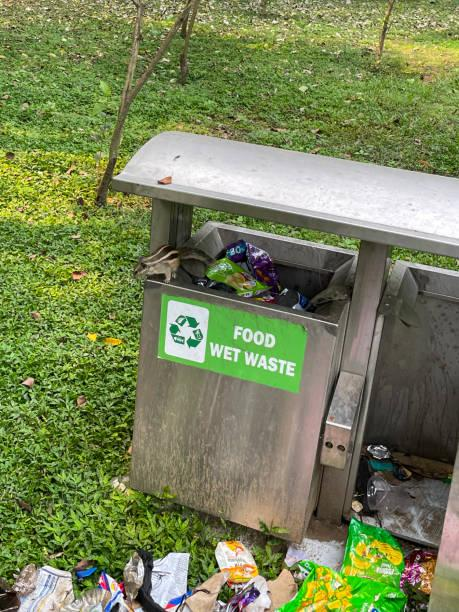trash: (140, 213, 358, 330), (1, 513, 187, 612), (286, 548, 459, 612), (339, 511, 412, 587), (198, 534, 263, 588), (362, 436, 416, 494), (227, 574, 303, 612), (190, 573, 227, 612)
trash_can_overflow: (27, 88, 459, 612)
